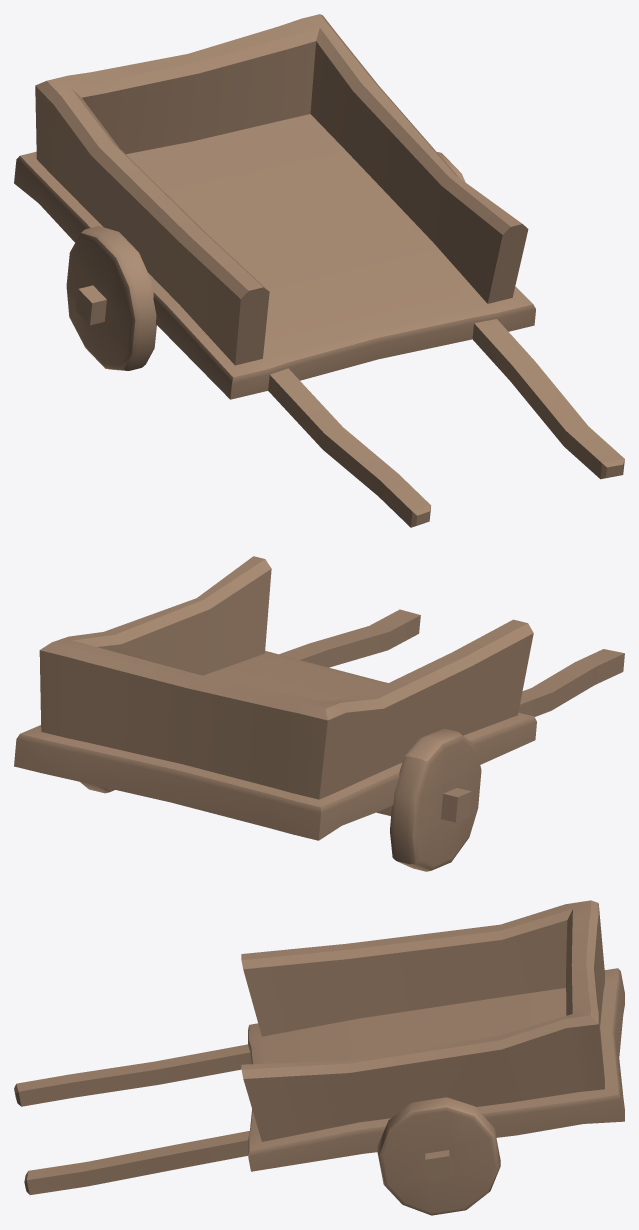
The model's file is Mod_Carriage.fbx.
The picture shows the model from 3 angles, top to bottom: view 1: azimuth 30°, elevation 25°; view 2: azimuth 150°, elevation 25°; view 3: azimuth 270°, elevation 25°; orthographic projection. The views are drawn at different scales.
Parts seen in each view (by area): view 1: Wagon; view 2: Wagon; view 3: Wagon.
Boxes of the visible parts, bbox=[...] form: Wagon: bbox=[14, 14, 624, 527]; Wagon: bbox=[14, 556, 624, 871]; Wagon: bbox=[14, 900, 624, 1215].
Bounding box in the file's own units: 221 × 122 × 357.
